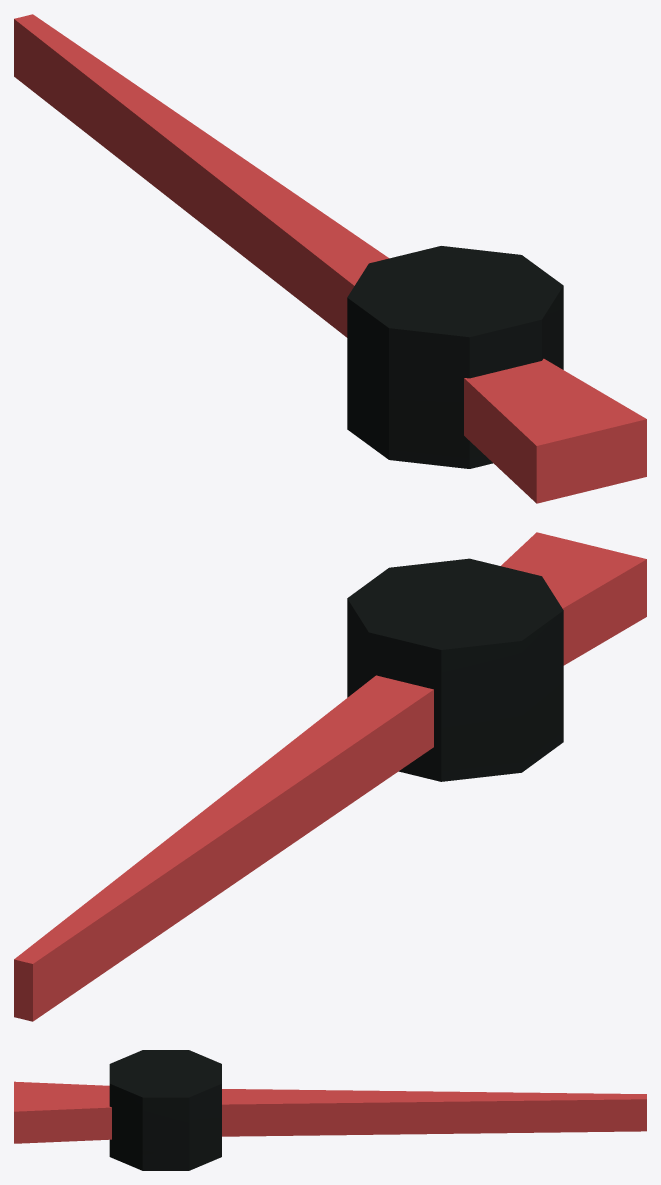
Rendered from SM_LabPanel_Gauge_Needle_20x3x3.fbx.
3 renders of one model, top to bottom at view 1: azimuth 30°, elevation 25°; view 2: azimuth 150°, elevation 25°; view 3: azimuth 270°, elevation 25°, orthographic. The views are drawn at different scales.
Visible parts, largest first — view 1: SM_LabPanel_Gauge_Needle_20x3x3.001; view 2: SM_LabPanel_Gauge_Needle_20x3x3.001; view 3: SM_LabPanel_Gauge_Needle_20x3x3.001.
Boxes of the visible parts, bbox=[...] form: SM_LabPanel_Gauge_Needle_20x3x3.001: bbox=[14, 14, 646, 503]; SM_LabPanel_Gauge_Needle_20x3x3.001: bbox=[14, 532, 646, 1021]; SM_LabPanel_Gauge_Needle_20x3x3.001: bbox=[14, 1050, 646, 1170].
Bounding box in the file's own units: 0.0222 × 0.016 × 0.125.
